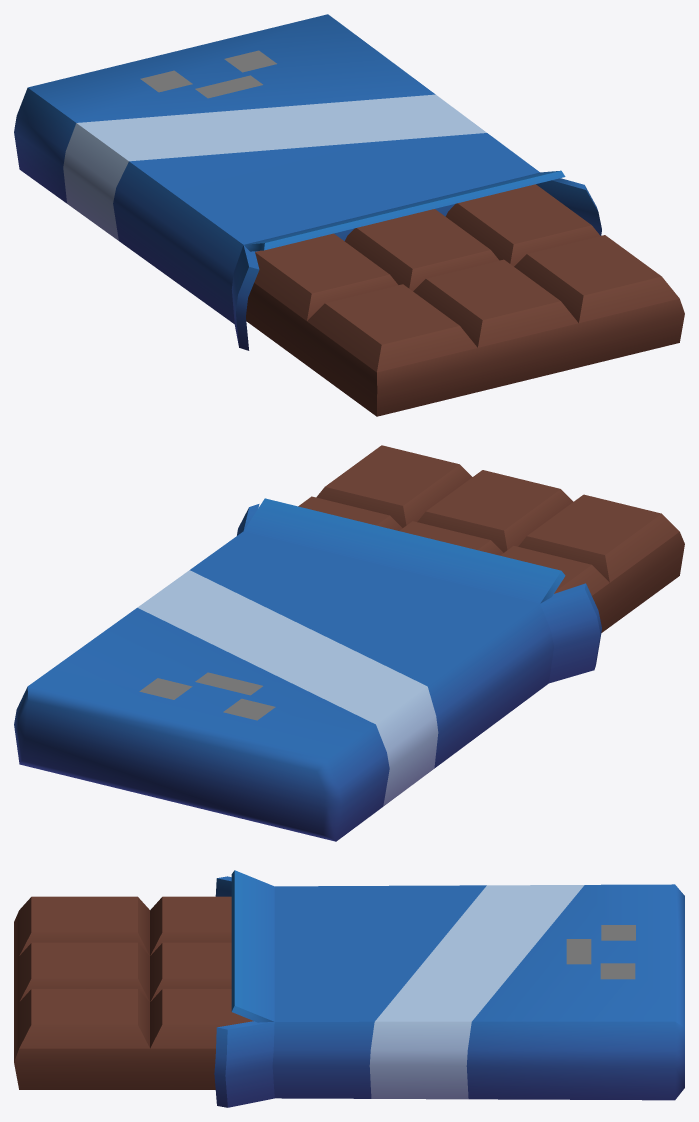
Rendered from chocolate_smile.fbx.
3 views of the same model, one above another, from view 1: azimuth 30°, elevation 25°; view 2: azimuth 150°, elevation 25°; view 3: azimuth 270°, elevation 25° (orthographic). The views are drawn at different scales.
Parts seen in each view (by area): view 1: paper, chocolate, smile; view 2: paper, chocolate, smile; view 3: paper, chocolate, smile.
Boxes of the visible parts, x1,y1,x2,y2 form: paper: (14,14,601,350); chocolate: (246,184,684,416); smile: (140,50,276,98); paper: (14,498,601,841); chocolate: (298,445,684,632); smile: (139,672,275,720); paper: (214,870,684,1107); chocolate: (14,896,253,1089); smile: (566,925,635,979).
Bounding box in the file's own units: 93.26 × 23.54 × 159.
